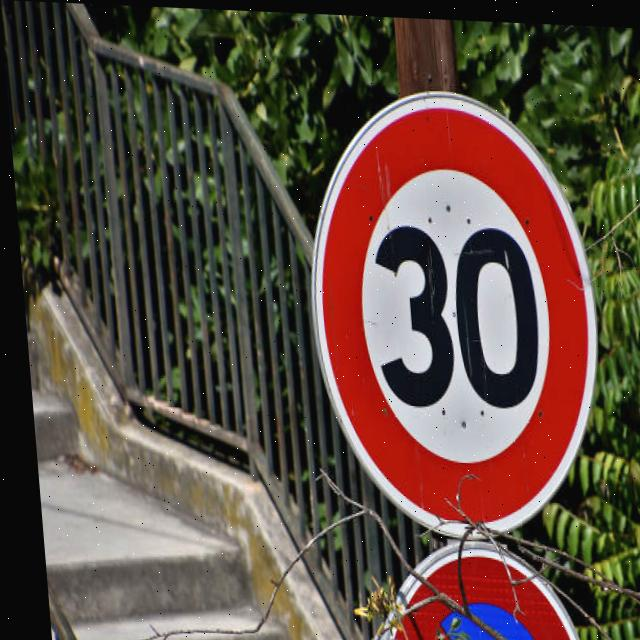Speed limit 30: (291, 80, 609, 540)
